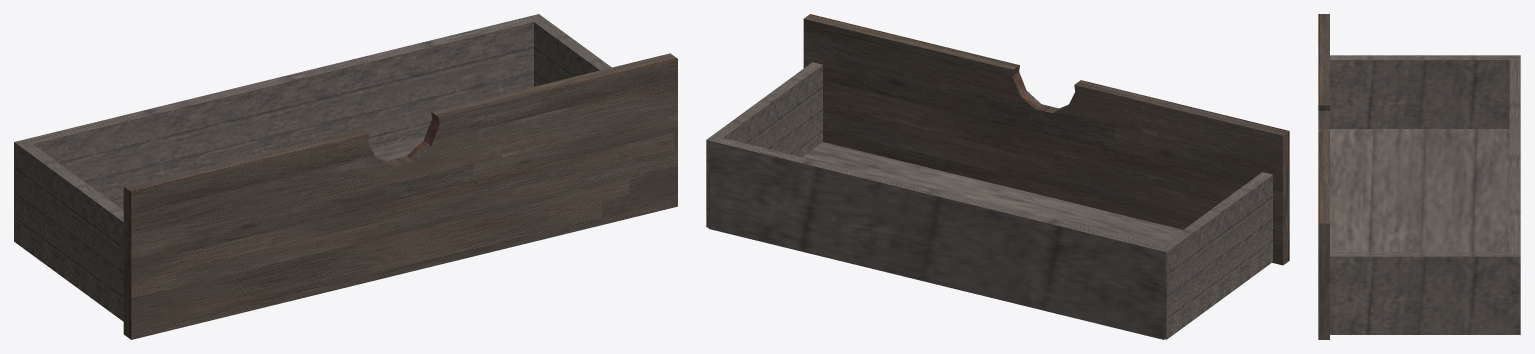
Rendered from TRY MO TO EMMAN PLS.fbx.
3 views of the same model, side by side, from view 1: azimuth 30°, elevation 25°; view 2: azimuth 150°, elevation 25°; view 3: azimuth 270°, elevation 25° (orthographic). The views are drawn at different scales.
Visible parts, largest first — view 1: drawer .014; view 2: drawer .014; view 3: drawer .014.
Boxes of the visible parts, <box> form: drawer .014: <box>14,14,677,339</box>; drawer .014: <box>706,14,1289,339</box>; drawer .014: <box>1318,14,1520,339</box>.
Size of the model in its own units: 525 by 136 by 214.
Materials: 2 (2 with a texture image).
